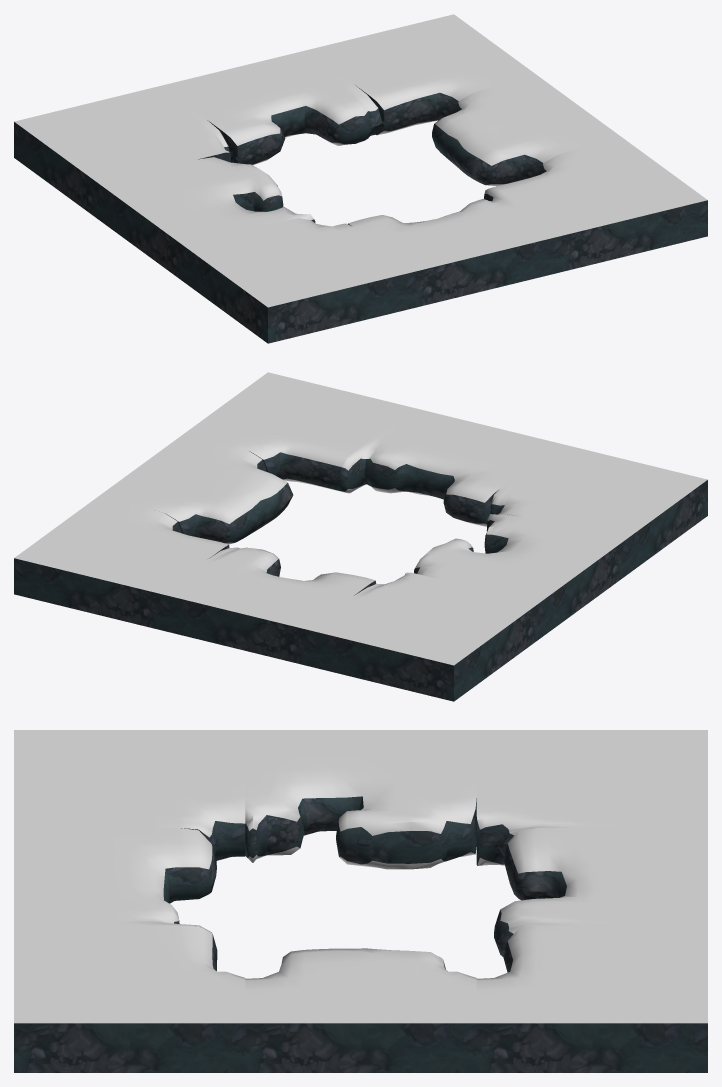
Rendered from BrokenTile.fbx.
The picture shows the model from 3 angles, top to bottom: view 1: azimuth 30°, elevation 25°; view 2: azimuth 150°, elevation 25°; view 3: azimuth 270°, elevation 25°; orthographic projection. The views are drawn at different scales.
Visible parts, largest first — view 1: Down_Left_Hole, Down_Right_Hole, Up_Left_Hole, Up_Mid_Hole, Up_Right_Hole, Mid_Left_Hole, Down_Mid_Hole, Mid_Right_Hole; view 2: Up_Left_Hole, Up_Right_Hole, Down_Left_Hole, Up_Mid_Hole, Down_Right_Hole, Down_Mid_Hole, Mid_Left_Hole, Mid_Right_Hole; view 3: Down_Right_Hole, Up_Right_Hole, Mid_Left_Hole, Mid_Right_Hole, Up_Left_Hole, Down_Left_Hole, Up_Mid_Hole, Down_Mid_Hole.
Boxes of the visible parts, left/top/right/bottom form: Down_Left_Hole: left=183, top=218, right=414, bottom=343; Down_Right_Hole: left=494, top=138, right=707, bottom=271; Up_Left_Hole: left=14, top=86, right=230, bottom=219; Up_Mid_Hole: left=161, top=50, right=382, bottom=164; Up_Right_Hole: left=307, top=14, right=538, bottom=135; Mid_Left_Hole: left=98, top=157, right=315, bottom=281; Down_Mid_Hole: left=348, top=187, right=561, bottom=307; Mid_Right_Hole: left=432, top=76, right=622, bottom=186; Up_Left_Hole: left=307, top=572, right=538, bottom=701; Up_Right_Hole: left=14, top=496, right=229, bottom=629; Down_Left_Hole: left=490, top=444, right=707, bottom=577; Up_Mid_Hole: left=160, top=547, right=376, bottom=665; Down_Right_Hole: left=183, top=372, right=414, bottom=492; Down_Mid_Hole: left=340, top=408, right=560, bottom=526; Mid_Left_Hole: left=414, top=514, right=623, bottom=639; Mid_Right_Hole: left=99, top=434, right=293, bottom=544; Down_Right_Hole: left=14, top=925, right=245, bottom=1072; Up_Right_Hole: left=476, top=925, right=707, bottom=1072; Mid_Left_Hole: left=245, top=730, right=476, bottom=869; Mid_Right_Hole: left=245, top=948, right=476, bottom=1072; Up_Left_Hole: left=476, top=730, right=707, bottom=865; Down_Left_Hole: left=14, top=730, right=245, bottom=860; Up_Mid_Hole: left=494, top=828, right=707, bottom=956; Down_Mid_Hole: left=14, top=828, right=216, bottom=933.
Size of the model in its own units: 600 by 47.16 by 600.
